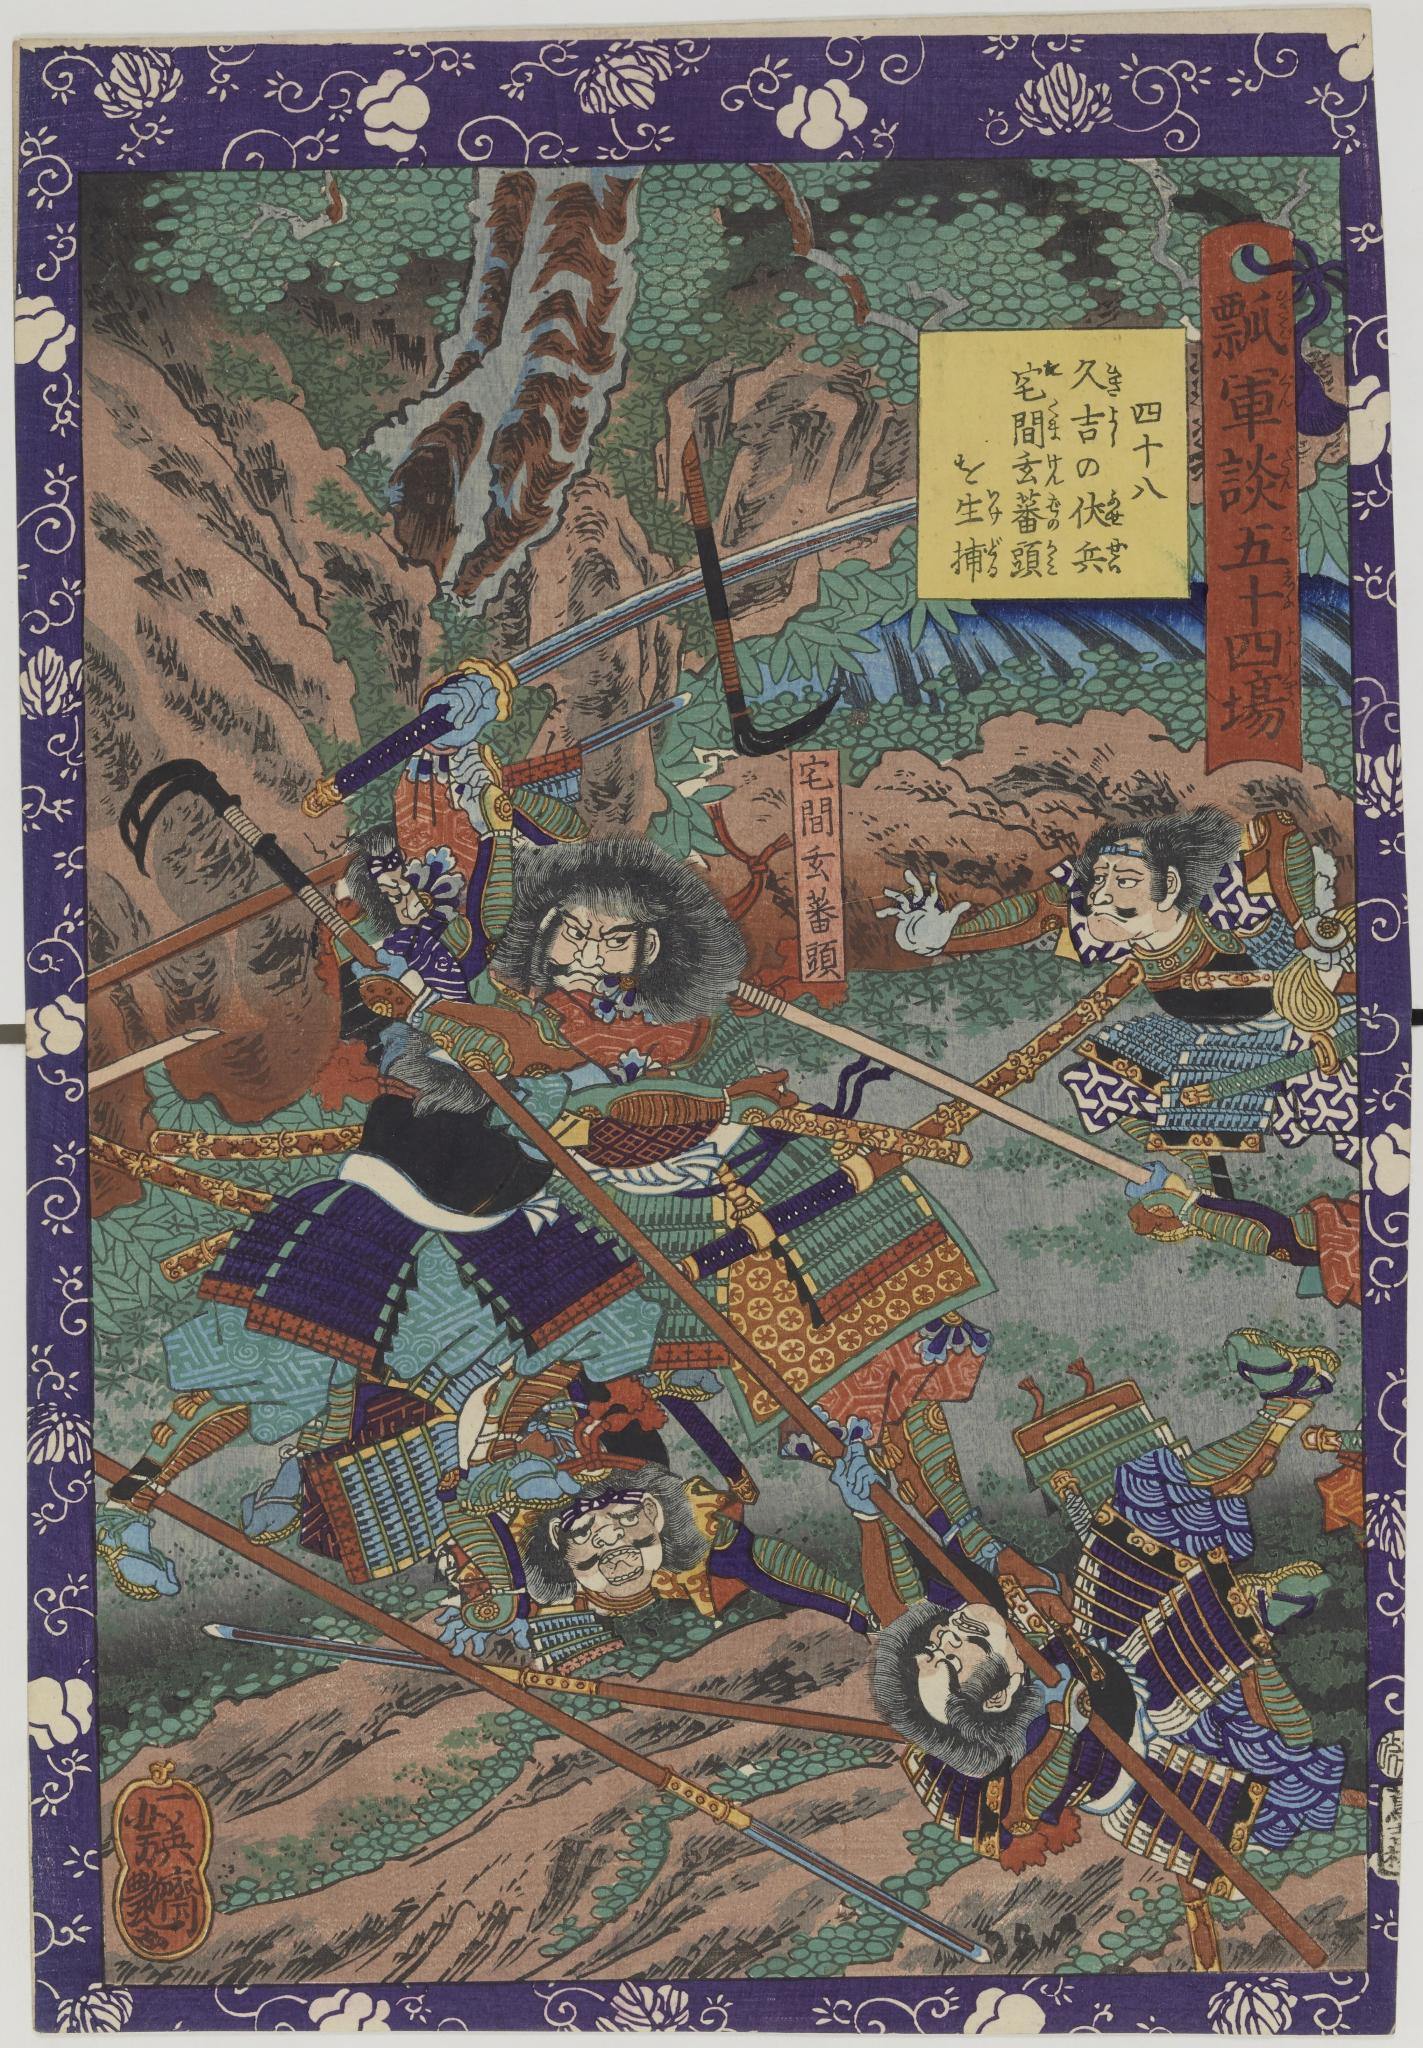MainZone-Character: (1208, 657, 1302, 747), (1203, 283, 1294, 361), (1208, 363, 1297, 440), (1214, 442, 1295, 512), (1214, 512, 1300, 570), (1227, 568, 1302, 624), (1219, 624, 1300, 671), (948, 529, 1007, 585), (1007, 538, 1062, 587), (1009, 402, 1065, 448), (1009, 490, 1063, 537), (1010, 358, 1066, 402), (1007, 450, 1066, 490), (1070, 355, 1123, 400), (1071, 490, 1123, 534), (1074, 540, 1130, 579), (1071, 403, 1119, 447), (951, 489, 1004, 526)
MainZone-Ruby: (1275, 288, 1294, 342), (1281, 658, 1298, 716), (987, 532, 1006, 580), (1104, 538, 1127, 576), (1280, 445, 1297, 493), (1043, 451, 1065, 487), (1042, 540, 1062, 576), (1281, 568, 1297, 613), (1107, 489, 1124, 529), (1046, 492, 1063, 532), (1277, 369, 1292, 411), (984, 489, 1003, 523), (1046, 402, 1062, 440), (1107, 359, 1121, 400), (1045, 359, 1065, 388), (1109, 403, 1119, 450), (1280, 524, 1297, 546), (1286, 626, 1298, 651)
